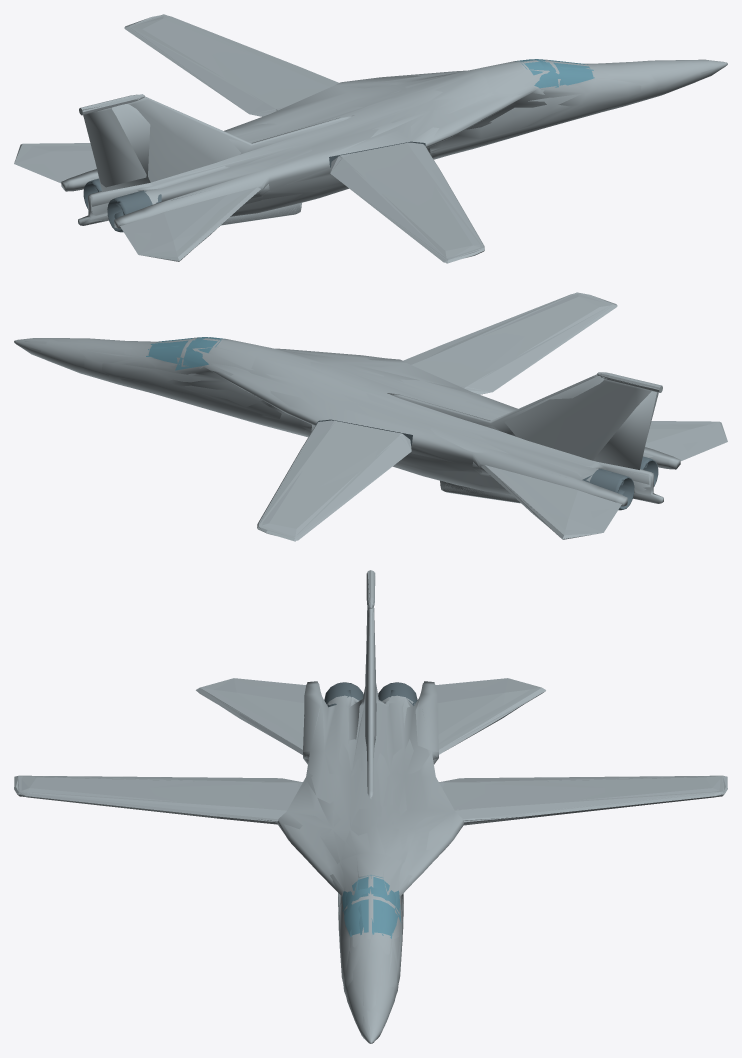
File: bomber.glb
3 renders of one model, top to bottom at view 1: azimuth 30°, elevation 25°; view 2: azimuth 150°, elevation 25°; view 3: azimuth 270°, elevation 25°, orthographic. The views are drawn at different scales.
Visible parts, largest first — view 1: f_111_aardvark_fuselage.003, f_111_aardvark_fuselage.006, f_111_aardvark_fuselage.001, f_111_aardvark_fuselage.004, f_111_aardvark_fuselage.002; view 2: f_111_aardvark_fuselage.003, f_111_aardvark_fuselage.006, f_111_aardvark_fuselage.001, f_111_aardvark_fuselage.004, f_111_aardvark_fuselage.002; view 3: f_111_aardvark_fuselage.003, f_111_aardvark_fuselage.006, f_111_aardvark_fuselage.004, f_111_aardvark_fuselage.001, f_111_aardvark_fuselage.002.
Part boxes in pixels (box(x1,y1,x2,y2)): f_111_aardvark_fuselage.003: box(14, 15, 727, 262); f_111_aardvark_fuselage.006: box(14, 14, 727, 263); f_111_aardvark_fuselage.001: box(83, 141, 425, 232); f_111_aardvark_fuselage.004: box(518, 59, 593, 87); f_111_aardvark_fuselage.002: box(515, 59, 594, 88); f_111_aardvark_fuselage.003: box(14, 293, 727, 540); f_111_aardvark_fuselage.006: box(14, 292, 727, 541); f_111_aardvark_fuselage.001: box(316, 419, 658, 510); f_111_aardvark_fuselage.004: box(148, 337, 222, 366); f_111_aardvark_fuselage.002: box(146, 337, 225, 370); f_111_aardvark_fuselage.003: box(14, 570, 727, 1043); f_111_aardvark_fuselage.006: box(14, 571, 727, 1043); f_111_aardvark_fuselage.004: box(342, 876, 399, 935); f_111_aardvark_fuselage.001: box(324, 682, 417, 704); f_111_aardvark_fuselage.002: box(342, 875, 401, 938).
Bounding box in the file's own units: 9.4 × 1.92 × 8.09.
